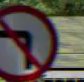Don't turn left: (1, 5, 61, 81)
